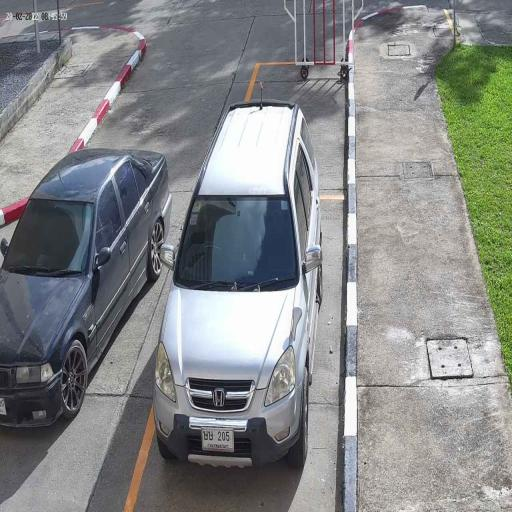car: (152, 99, 324, 472), (0, 147, 174, 430)
